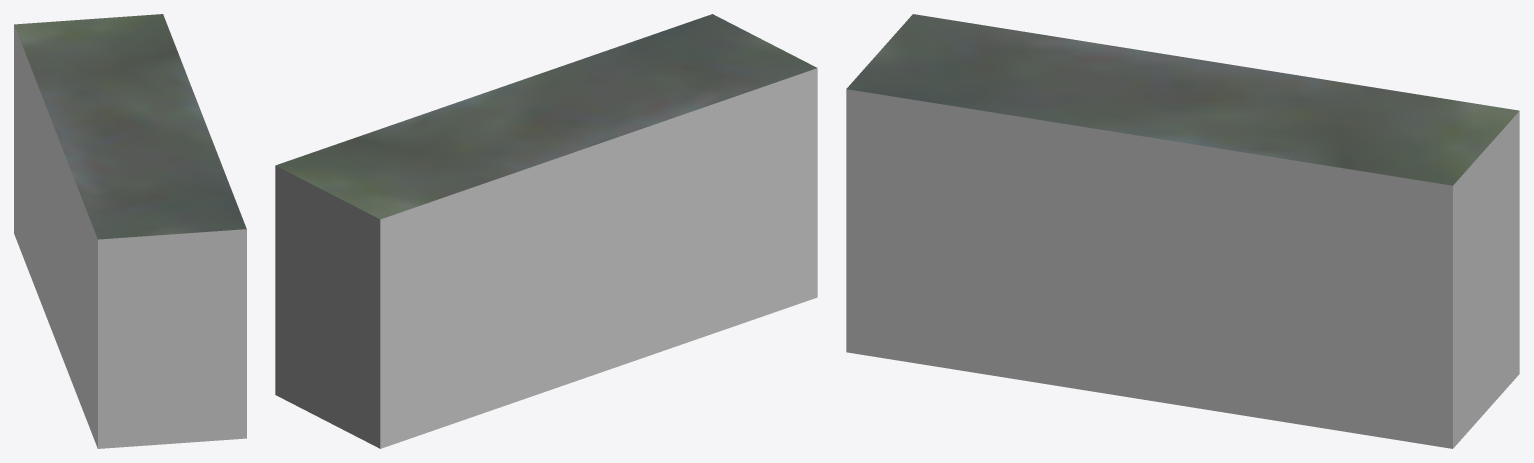
The model's file is DEBW_0010007TxfT.gltf.
The picture shows the model from 3 angles, left to right: view 1: azimuth 30°, elevation 25°; view 2: azimuth 150°, elevation 25°; view 3: azimuth 270°, elevation 25°; orthographic projection. The views are drawn at different scales.
Parts seen in each view (by area): view 1: Z_UP; view 2: Z_UP; view 3: Z_UP.
Part boxes in pixels (<box>): Z_UP: <box>14,14,246,448</box>; Z_UP: <box>275,14,817,448</box>; Z_UP: <box>846,14,1519,448</box>.
Bounding box in the file's own units: 4.14 × 2.96 × 6.86.
2 materials, 1 textured.
